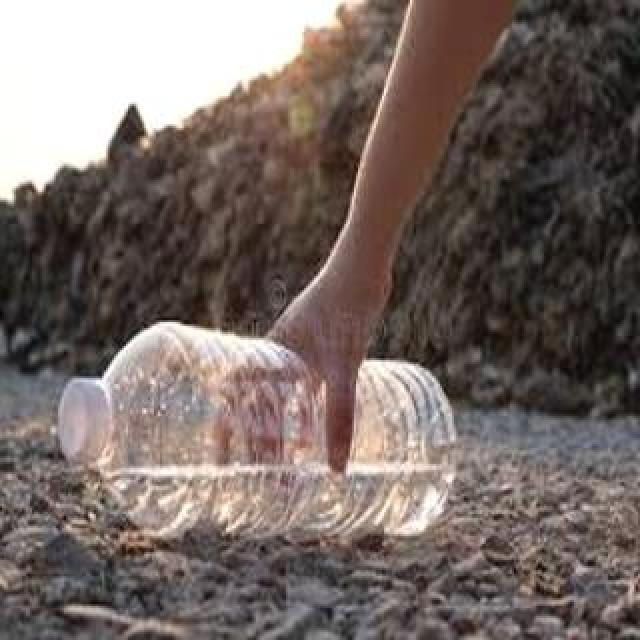Pet_Bottle: (61, 323, 463, 549)
